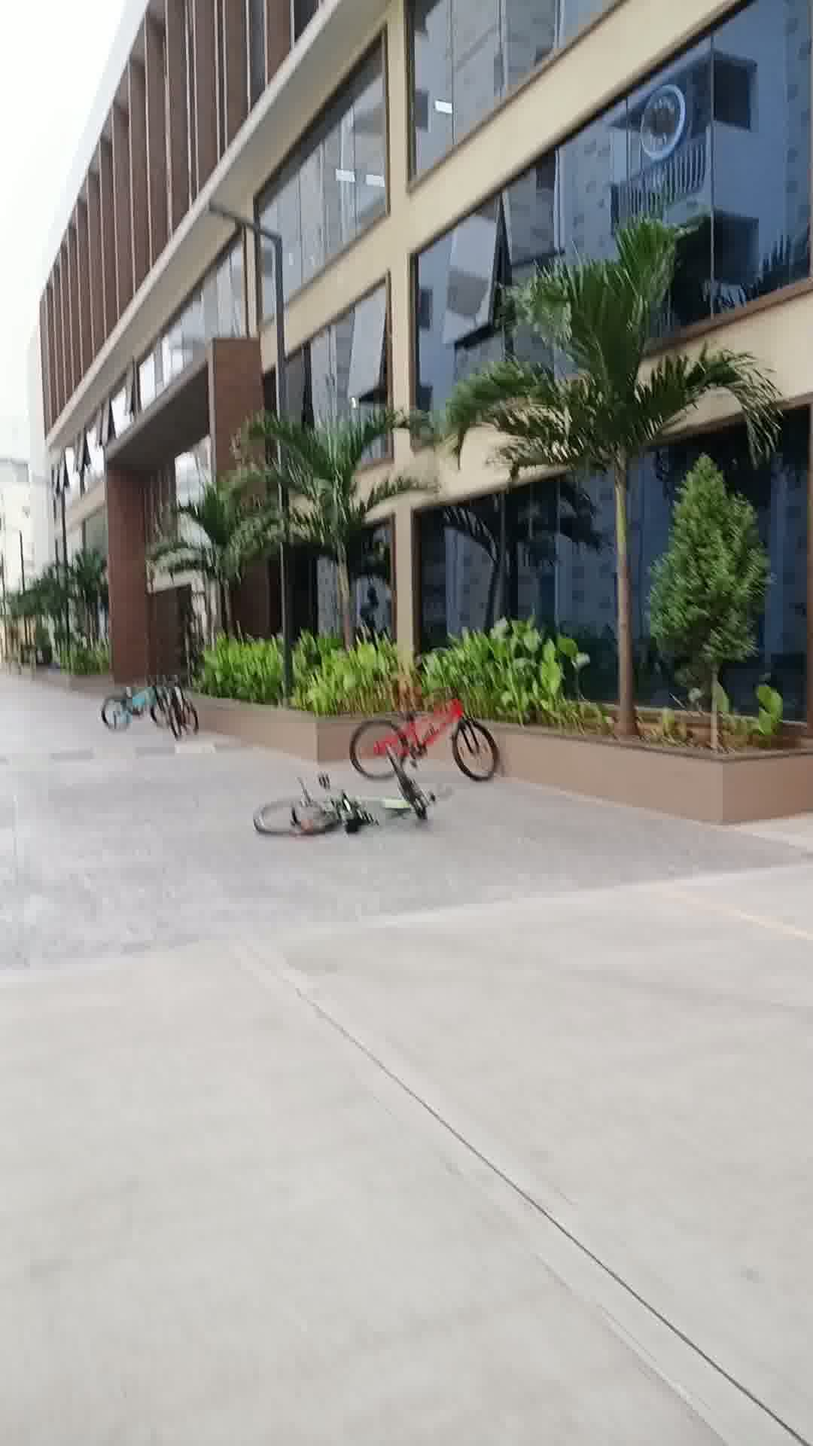bicycle: (341, 673, 527, 797), (242, 774, 480, 849), (94, 677, 216, 744)
tree: (437, 257, 780, 759), (225, 384, 427, 707), (142, 476, 289, 682), (51, 534, 126, 680)
